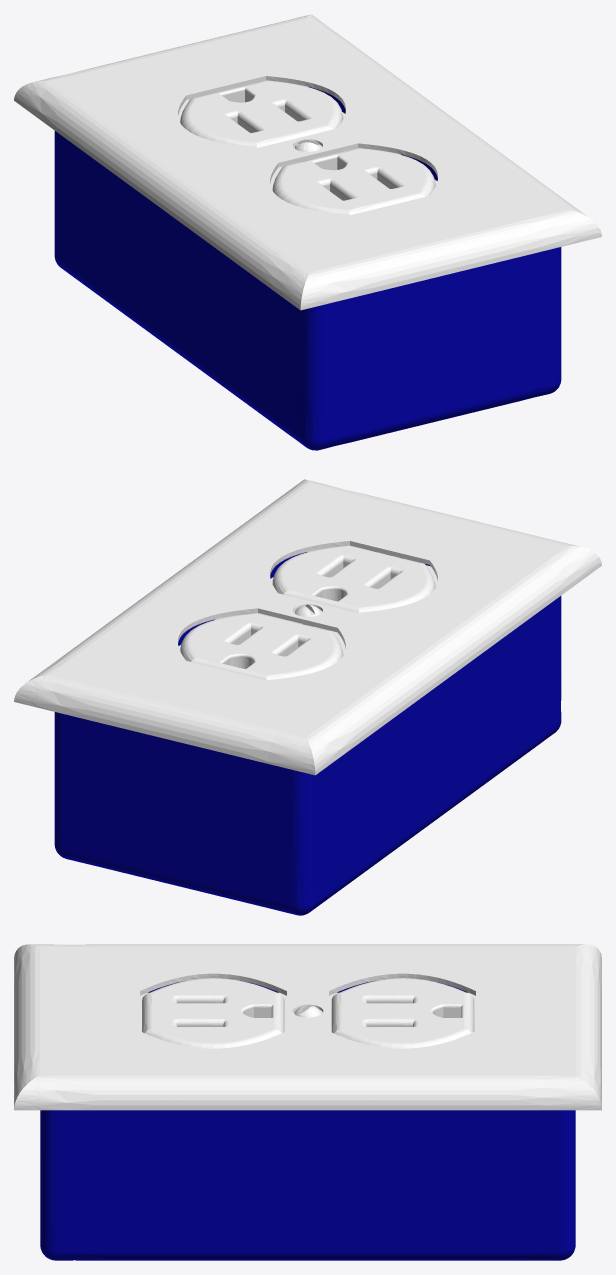
File: Outlet-01.fbx
3 renders of one model, top to bottom at view 1: azimuth 30°, elevation 25°; view 2: azimuth 150°, elevation 25°; view 3: azimuth 270°, elevation 25°, orthographic. The views are drawn at different scales.
Parts seen in each view (by area): view 1: plate, box, outlet; view 2: plate, box, outlet; view 3: box, plate, outlet.
Boxes of the visible parts, x1,y1,x2,y2 form: plate: (14, 14, 601, 310); box: (54, 87, 561, 450); outlet: (178, 80, 437, 215); plate: (14, 479, 601, 775); box: (54, 552, 561, 915); outlet: (178, 545, 437, 680); box: (40, 980, 575, 1260); plate: (14, 944, 601, 1110); outlet: (140, 978, 475, 1048).
Bounding box in the file's own units: 68 × 40.96 × 112.
